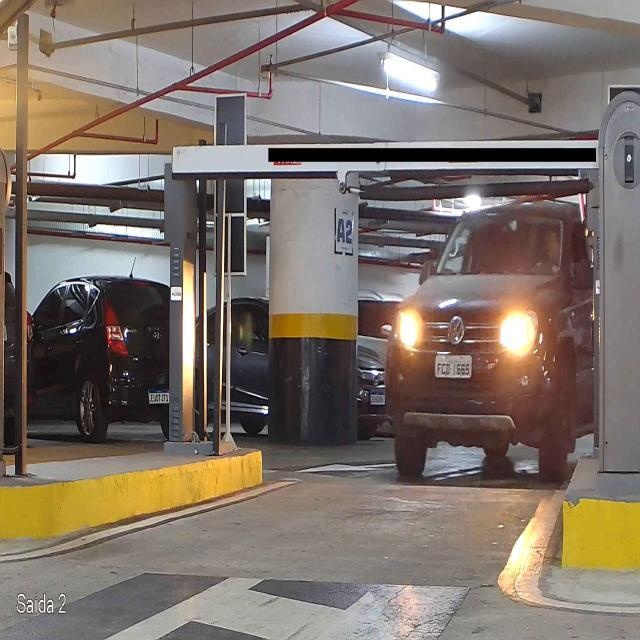old_plate: (434, 354, 473, 379)
